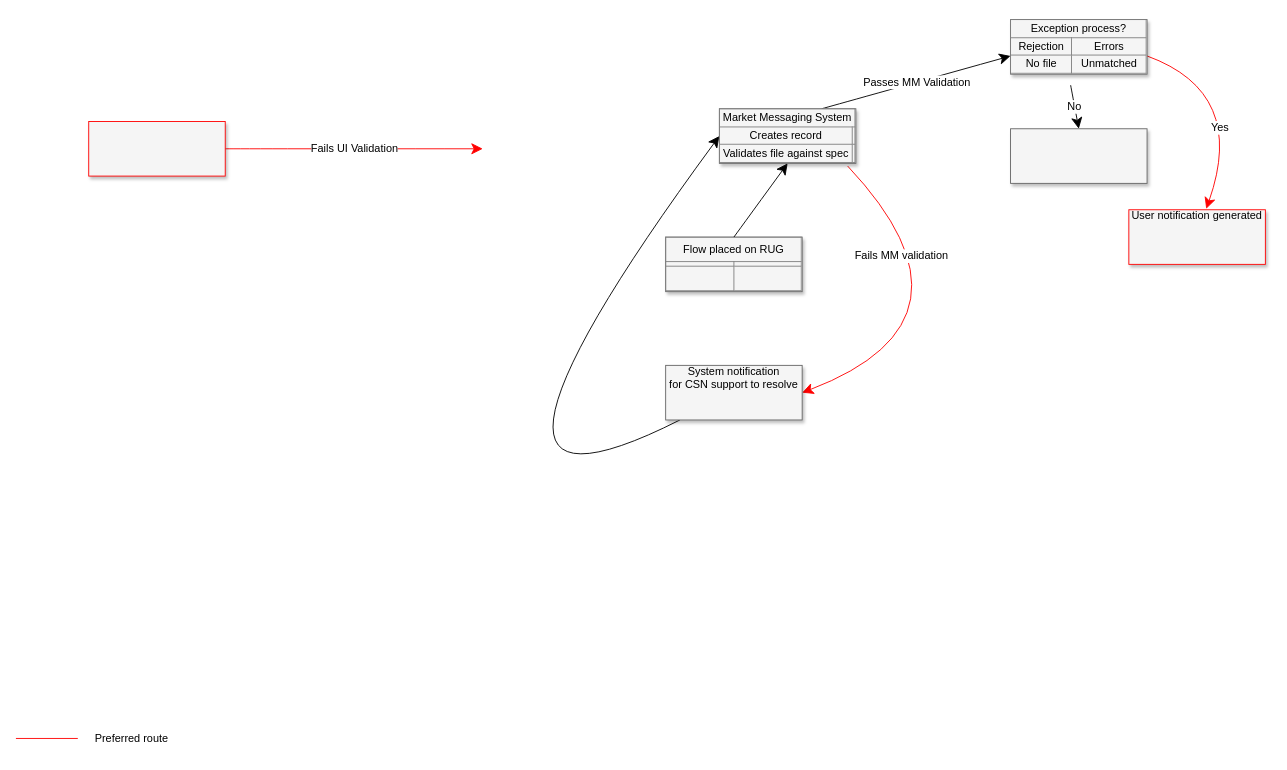
Image size: 1287x770. Some labels were removed from this diagram. The shapes that lost their labels are listed below. From the top down, each one's centre as x and y in pixels, then its label:
At (x=157, y=149): "File Generated via UI if user or automatically".
At (x=1079, y=157): "API processes Checks for completeness".
